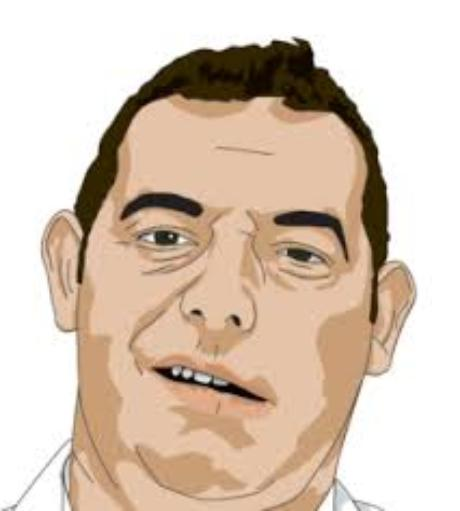left_eye: (269, 248, 332, 270)
left_lip_corner: (250, 388, 277, 413)
right_eye: (132, 229, 201, 252)
right_lip_corner: (140, 353, 177, 386)
